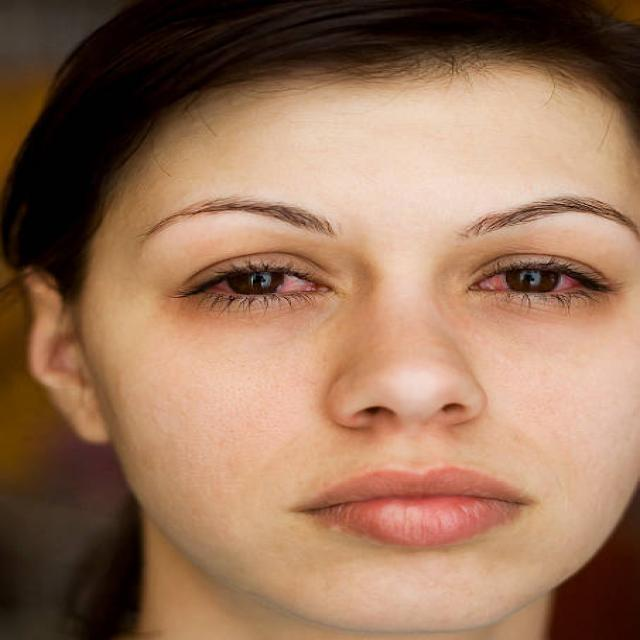Conjunctivitis: (208, 267, 326, 296), (468, 268, 586, 292)
